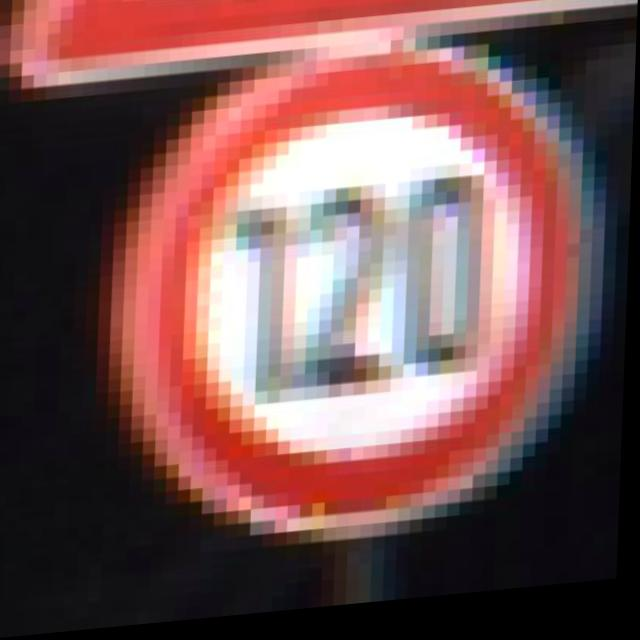limit120: (105, 37, 614, 567)
